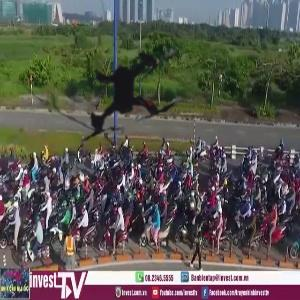drone: (37, 6, 221, 190)
